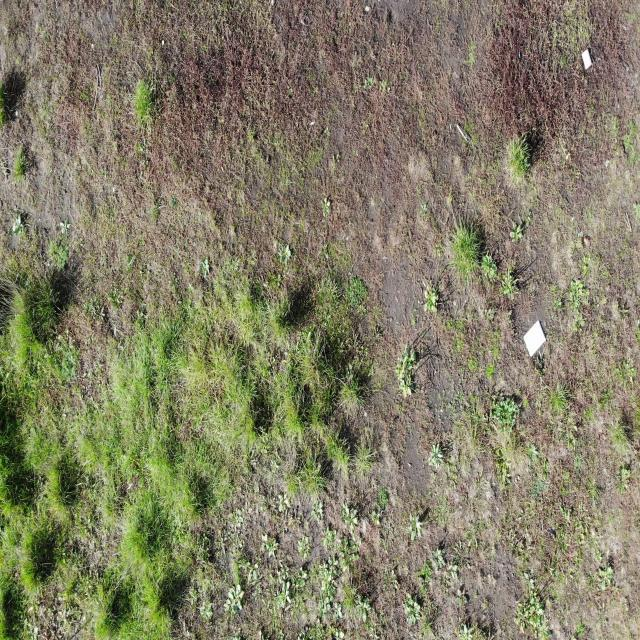rubbish: (522, 319, 548, 359), (581, 46, 593, 70)
